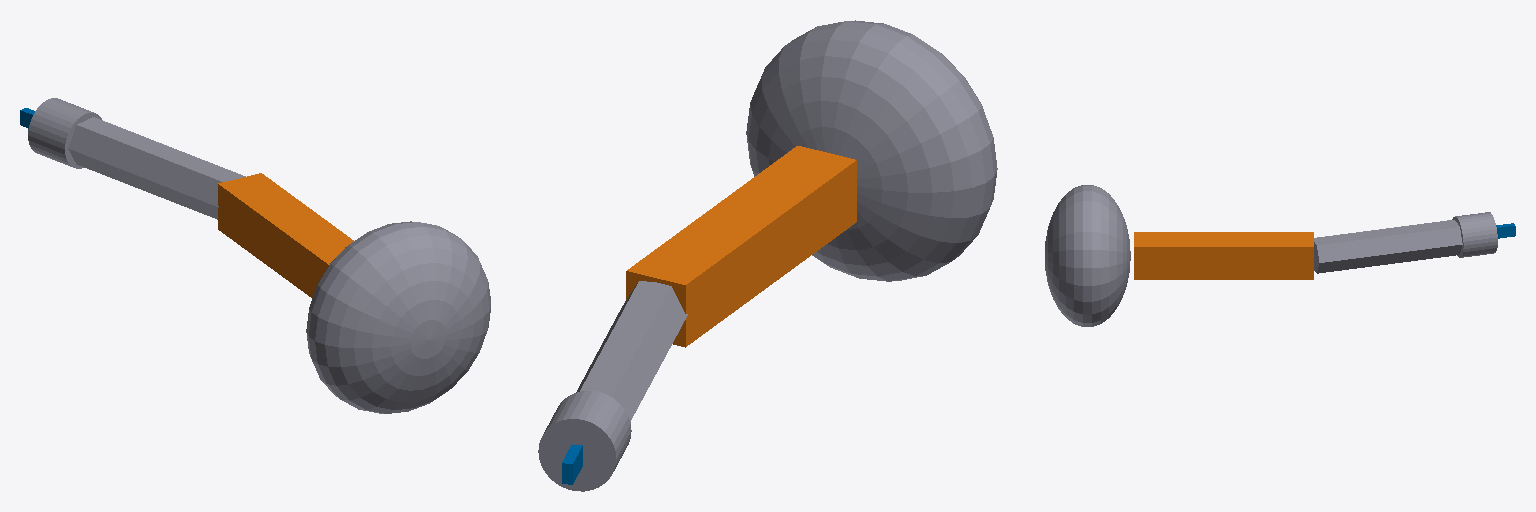
URDF robot description (mesh_arm):
<?xml version="1.0"?>
<!-- Mesh-based example arm for tests and CI. Meshes come from ../../make_meshes.py; nothing here is a
     real robot. Y is up (as in many CAD exports), so twin.yaml sets up_axis: "+y".
     Mesh references: package:// (base, upper arm) and a path relative to this file (forearm).
     Inertials are those of simple solids of about the same size. -->
<robot name="mesh_arm">
  <material name="grey"><color rgba="0.6 0.6 0.65 1"/></material>

  <link name="base_link">
    <inertial>
      <origin xyz="0 0.05 0"/>
      <mass value="3.0"/>
      <inertia ixx="0.0173" ixy="0" ixz="0" iyy="0.0173" iyz="0" izz="0.0173"/>
    </inertial>
    <visual>
      <geometry><mesh filename="package://mesh_arm_description/meshes/base.stl"/></geometry>
      <material name="grey"/>
    </visual>
    <collision>
      <geometry><mesh filename="package://mesh_arm_description/meshes/base.stl"/></geometry>
    </collision>
  </link>

  <joint name="shoulder_joint" type="revolute">
    <parent link="base_link"/>
    <child link="upper_arm_link"/>
    <origin xyz="0 0.15 0"/>
    <axis xyz="0 1 0"/>
    <limit lower="-2.0" upper="2.0" effort="12" velocity="1.5"/>
  </joint>

  <link name="upper_arm_link">
    <inertial>
      <origin xyz="0 0.15 0"/>
      <mass value="1.0"/>
      <inertia ixx="0.0078" ixy="0" ixz="0" iyy="0.0006" iyz="0" izz="0.0078"/>
    </inertial>
    <visual>
      <geometry><mesh filename="package://mesh_arm_description/meshes/upper_arm.stl"/></geometry>
      <material name="orange"><color rgba="0.9 0.5 0.1 1"/></material>
    </visual>
    <collision>
      <geometry><mesh filename="package://mesh_arm_description/meshes/upper_arm.stl"/></geometry>
    </collision>
  </link>

  <joint name="elbow_joint" type="revolute">
    <parent link="upper_arm_link"/>
    <child link="forearm_link"/>
    <origin xyz="0 0.3 0" rpy="0 0 0.3"/>
    <axis xyz="0 0 1"/>
    <limit lower="-2.2" upper="2.2" effort="8" velocity="2.0"/>
  </joint>

  <link name="forearm_link">
    <inertial>
      <origin xyz="0 0.125 0"/>
      <mass value="0.5"/>
      <inertia ixx="0.0027" ixy="0" ixz="0" iyy="0.0002" iyz="0" izz="0.0027"/>
    </inertial>
    <visual>
      <geometry><mesh filename="../meshes/forearm.obj" scale="1 1 1"/></geometry>
      <material name="grey"/>
    </visual>
    <collision>
      <geometry><mesh filename="../meshes/forearm.obj"/></geometry>
    </collision>
  </link>

  <joint name="wrist_joint" type="continuous">
    <parent link="forearm_link"/>
    <child link="hand_link"/>
    <origin xyz="0 0.25 0"/>
    <axis xyz="0 1 0"/>
    <limit effort="2" velocity="4.0"/>
  </joint>

  <link name="hand_link">
    <inertial>
      <origin xyz="0 0.03 0"/>
      <mass value="0.2"/>
      <inertia ixx="0.0001" ixy="0" ixz="0" iyy="0.0001" iyz="0" izz="0.0001"/>
    </inertial>
    <visual>
      <origin xyz="0 0.03 0" rpy="1.5707963 0 0"/>
      <geometry><cylinder radius="0.035" length="0.06"/></geometry>
      <material name="grey"/>
    </visual>
    <collision>
      <origin xyz="0 0.03 0"/>
      <geometry><sphere radius="0.035"/></geometry>
    </collision>
  </link>

  <joint name="gripper_joint" type="prismatic">
    <parent link="hand_link"/>
    <child link="finger_link"/>
    <origin xyz="0 0.06 0"/>
    <axis xyz="1 0 0"/>
    <limit lower="0" upper="0.02" effort="5" velocity="0.05"/>
  </joint>

  <link name="finger_link">
    <inertial>
      <origin xyz="0 0.02 0"/>
      <mass value="0.03"/>
      <inertia ixx="0.000005" ixy="0" ixz="0" iyy="0.000002" iyz="0" izz="0.000005"/>
    </inertial>
    <visual>
      <origin xyz="0 0.02 0"/>
      <geometry><box size="0.01 0.04 0.02"/></geometry>
    </visual>
    <collision>
      <origin xyz="0 0.02 0"/>
      <geometry><box size="0.01 0.04 0.02"/></geometry>
    </collision>
  </link>

  <joint name="tool_joint" type="fixed">
    <parent link="hand_link"/>
    <child link="tool_frame"/>
    <origin xyz="0 0.1 0"/>
  </joint>

  <link name="tool_frame"/>
</robot>

--- What the picture shows (computed from the rendered views, not written in the file) ---
The picture shows the robot from 3 angles, left to right: view 1: azimuth 30°, elevation 25°; view 2: azimuth 150°, elevation 25°; view 3: azimuth 270°, elevation 25°; orthographic projection.
Model mesh_arm with 6 links and 5 joints (2 revolute, 1 continuous, 1 prismatic, 1 fixed), rooted at base_link, posed every joint at zero.
Links seen in each view (by area): view 1: base_link, upper_arm_link, forearm_link, hand_link; view 2: base_link, upper_arm_link, forearm_link, hand_link, finger_link; view 3: base_link, upper_arm_link, forearm_link, hand_link.
Link boxes in pixels (x1,y1,x2,y2): base_link: (306, 221, 490, 413); upper_arm_link: (218, 173, 353, 297); forearm_link: (68, 117, 245, 219); hand_link: (28, 98, 101, 168); base_link: (746, 20, 997, 281); upper_arm_link: (626, 146, 856, 347); forearm_link: (576, 281, 687, 421); hand_link: (538, 391, 631, 491); finger_link: (562, 444, 582, 484); base_link: (1045, 185, 1130, 326); upper_arm_link: (1134, 232, 1313, 279); forearm_link: (1314, 220, 1462, 273); hand_link: (1452, 212, 1497, 257).
Bounding box of the posed robot: 0.2444 × 0.7858 × 0.2387 m (x, y, z).
3 mesh visuals loaded from 3 distinct referenced files (1 binary STL, 1 ASCII STL, 1 OBJ).
